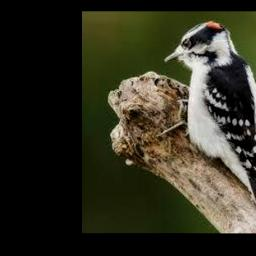Woodpecker: (155, 20, 256, 226)
